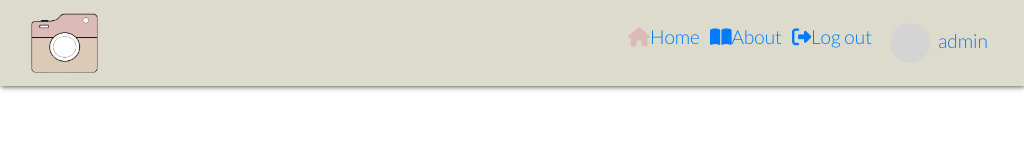
renders Login and Sign up buttons again on log out
Click the link "Log out" at (832,36), box top-left (792, 25), bottom-right (872, 48)
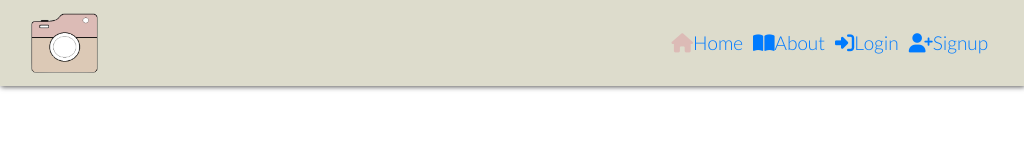
Check: the link "Login" is shown, box top-left (830, 29), bottom-right (904, 57)
Check: the link "Signup" is shown, box top-left (904, 29), bottom-right (993, 57)
